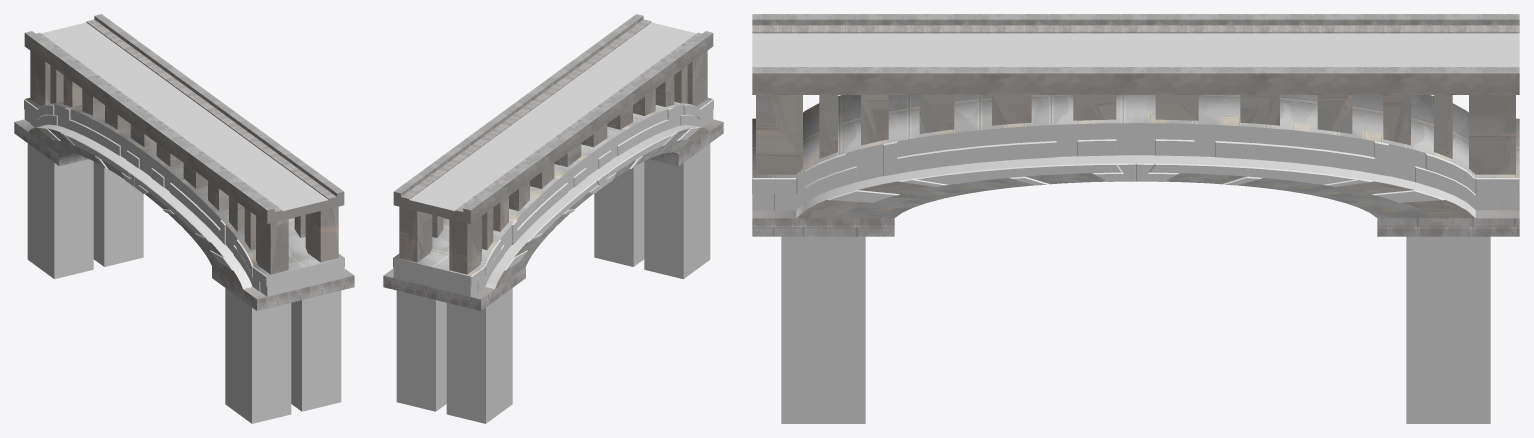
Rendered from Bridge01.fbx.
3 renders of one model, left to right at view 1: azimuth 30°, elevation 25°; view 2: azimuth 150°, elevation 25°; view 3: azimuth 270°, elevation 25°, orthographic. The views are drawn at different scales.
Visible parts, largest first — view 1: BridgeXtra; view 2: BridgeXtra; view 3: BridgeXtra.
Boxes of the visible parts, bbox=[...] form: BridgeXtra: bbox=[14, 14, 354, 423]; BridgeXtra: bbox=[383, 14, 723, 423]; BridgeXtra: bbox=[752, 14, 1519, 423].
Size of the model in its own units: 581 by 1216 by 2444.
